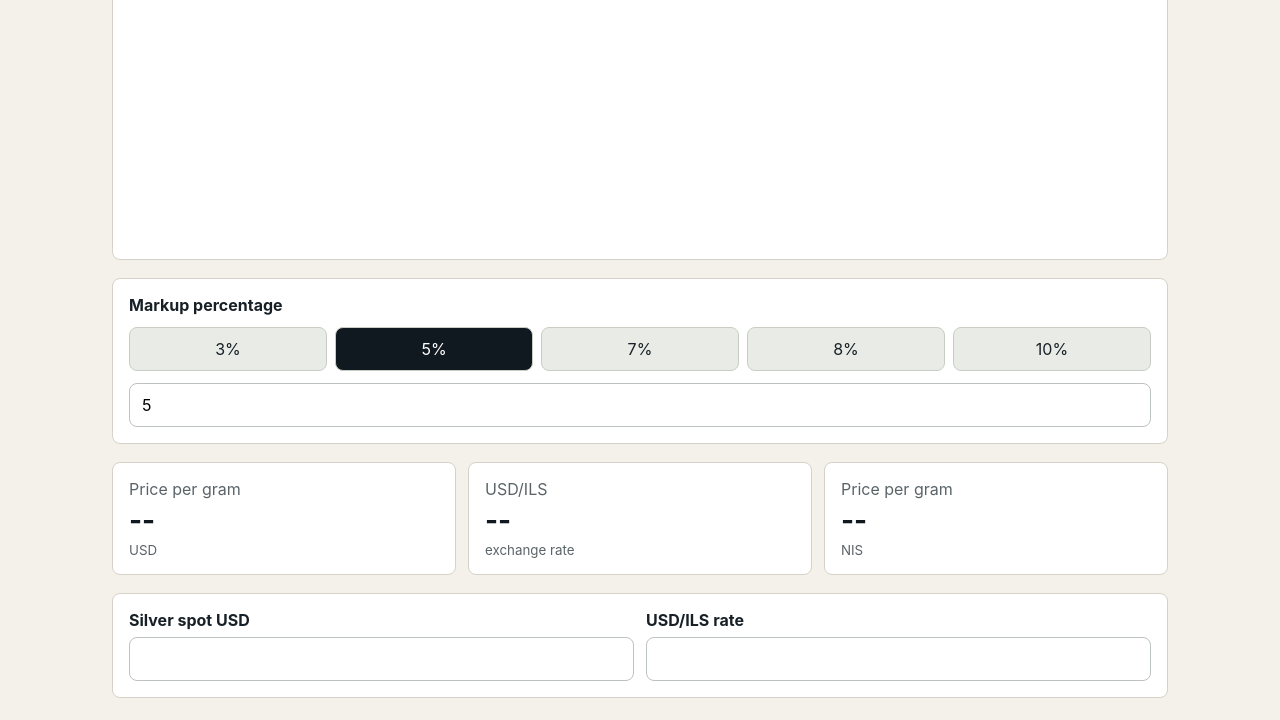
Test: App › lets the user calculate manual prices when live pricing is unavailable
(page scrolled)
In the number field labelled "Silver spot USD": (382, 659) [129,637,634,681], type "30"
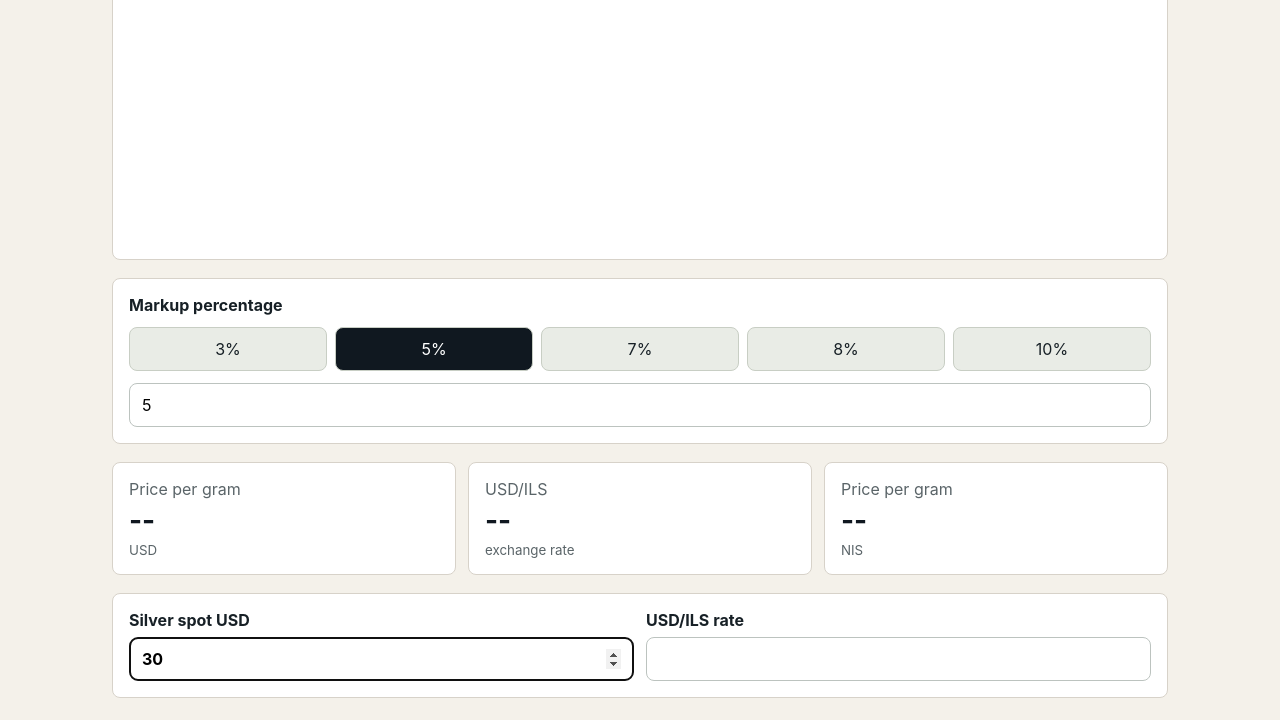
In the number field labelled "USD/ILS rate": (898, 659) [646,637,1151,681], type "3.7"
(page scrolled)
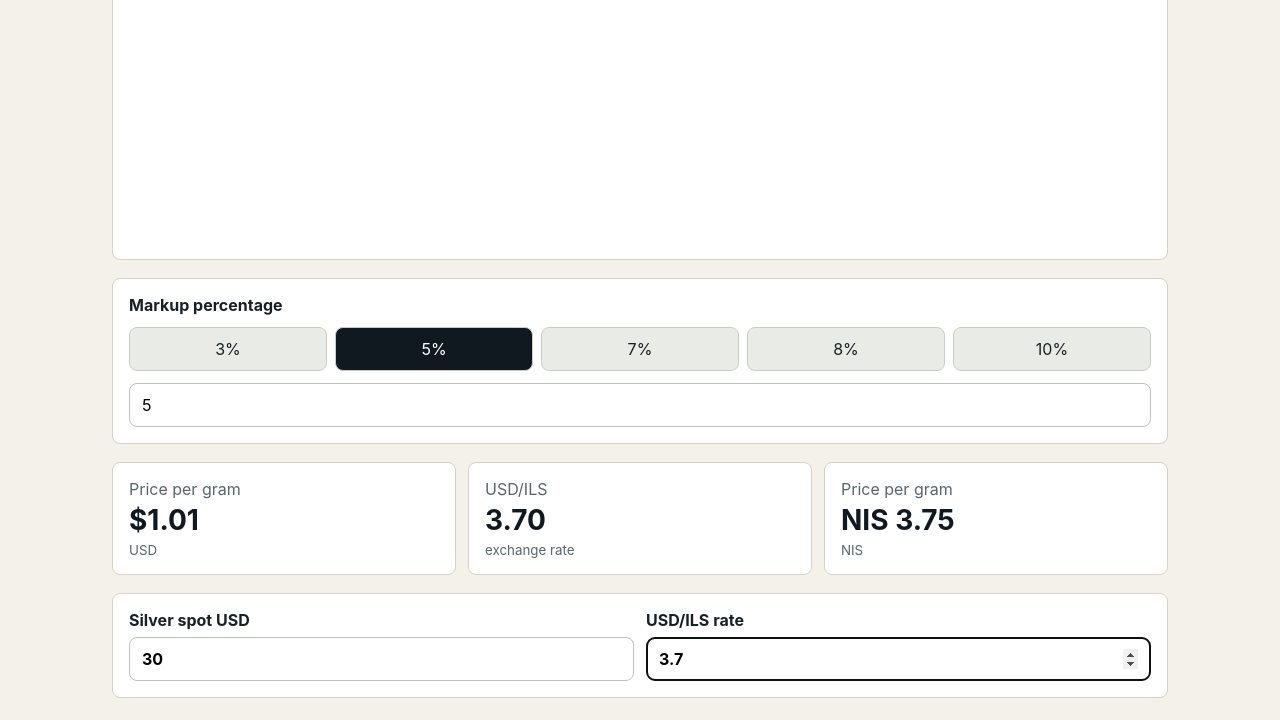
Click the button "10%": (1052, 349) [953,327,1151,371]
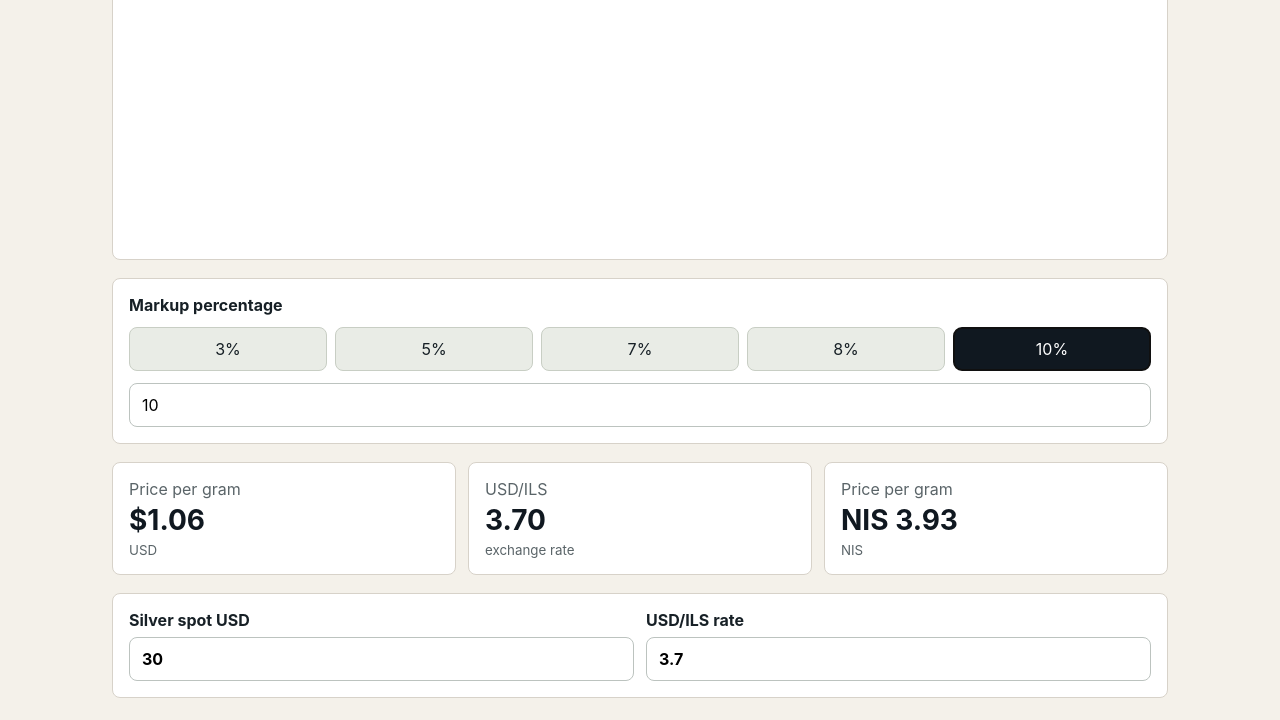
Expected: the text "$1.06" is shown, [129,503,205,537]
Expected: the text "NIS 3.93" is shown, [841,503,958,537]
